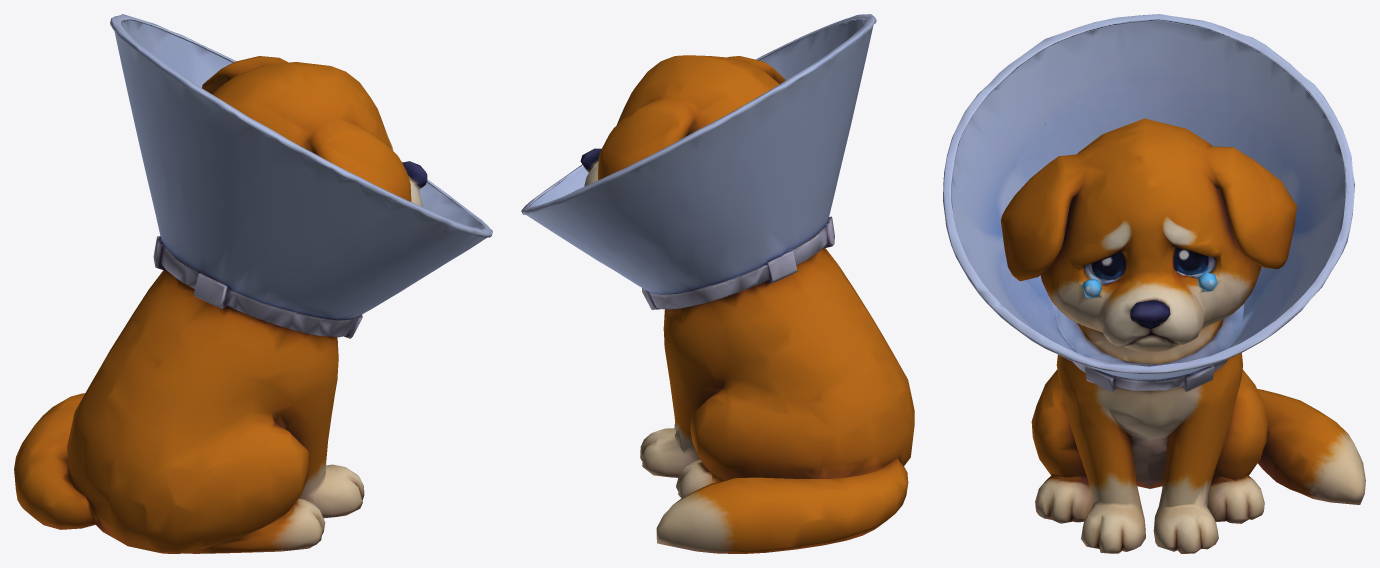
Rendered from dog_shiba_coned.glb.
3 views of the same model, side by side, from view 1: azimuth 30°, elevation 25°; view 2: azimuth 150°, elevation 25°; view 3: azimuth 270°, elevation 25° (orthographic). The views are drawn at different scales.
Visible parts, largest first — view 1: tripo_node_8a882e42-7f82-4fc8-9b11-7b24e7589cd9; view 2: tripo_node_8a882e42-7f82-4fc8-9b11-7b24e7589cd9; view 3: tripo_node_8a882e42-7f82-4fc8-9b11-7b24e7589cd9.
Boxes of the visible parts, box(x1,y1,x2,y2) form: tripo_node_8a882e42-7f82-4fc8-9b11-7b24e7589cd9: box(14, 14, 492, 553); tripo_node_8a882e42-7f82-4fc8-9b11-7b24e7589cd9: box(521, 14, 914, 553); tripo_node_8a882e42-7f82-4fc8-9b11-7b24e7589cd9: box(943, 14, 1365, 553).
Size of the model in its own units: 0.8706 by 1 by 0.8464.
1 material, 1 textured.
